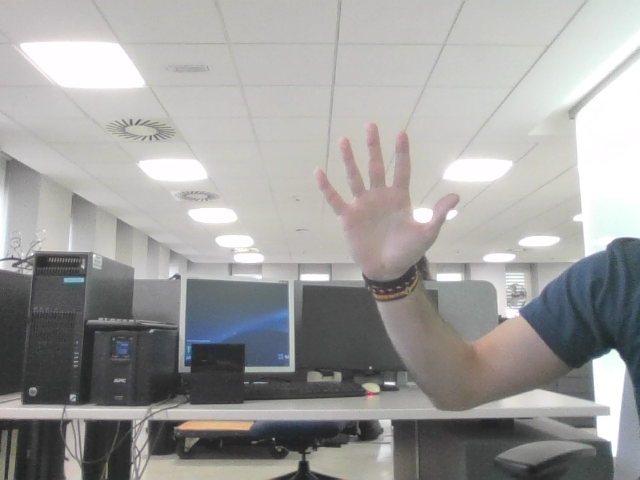Mano Abierta: (326, 134, 445, 249)
